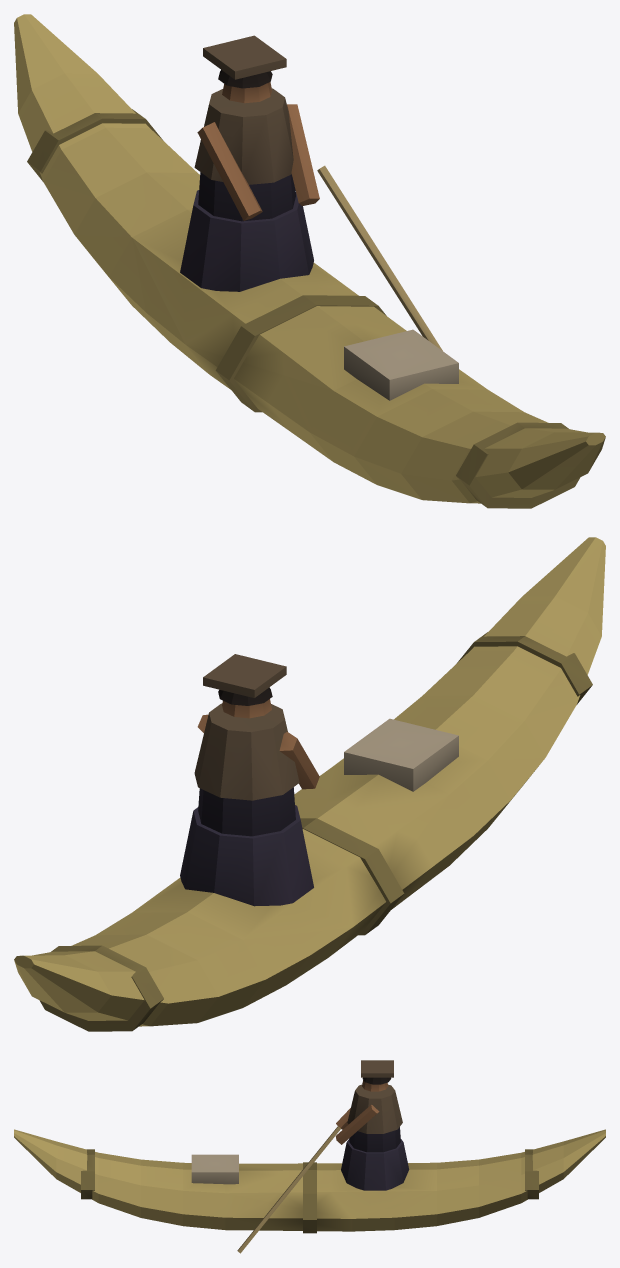
The model's file is skiff.glb.
The picture shows the model from 3 angles, top to bottom: view 1: azimuth 30°, elevation 25°; view 2: azimuth 150°, elevation 25°; view 3: azimuth 270°, elevation 25°; orthographic projection. The views are drawn at different scales.
Parts seen in each view (by area): view 1: base; view 2: base; view 3: base.
Boxes of the visible parts, bbox=[...] form: base: bbox=[14, 14, 605, 508]; base: bbox=[14, 537, 605, 1031]; base: bbox=[14, 1060, 605, 1253].
Bounding box in the file's own units: 1.01 × 1.48 × 5.
